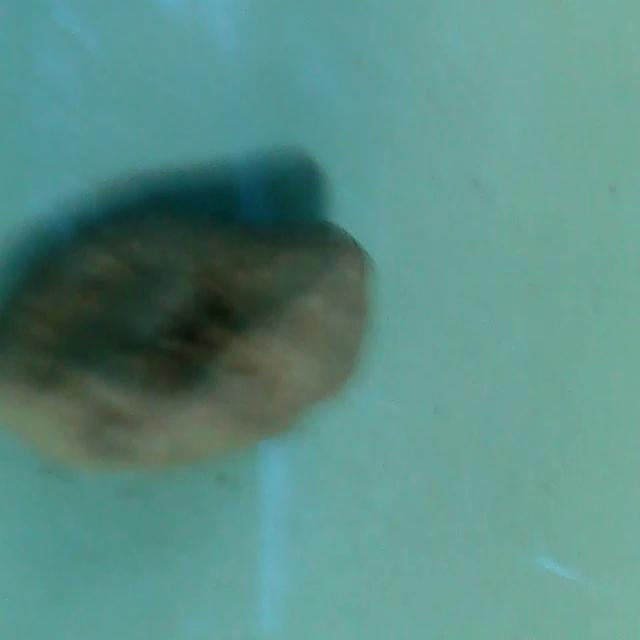rock: (3, 195, 378, 482)
